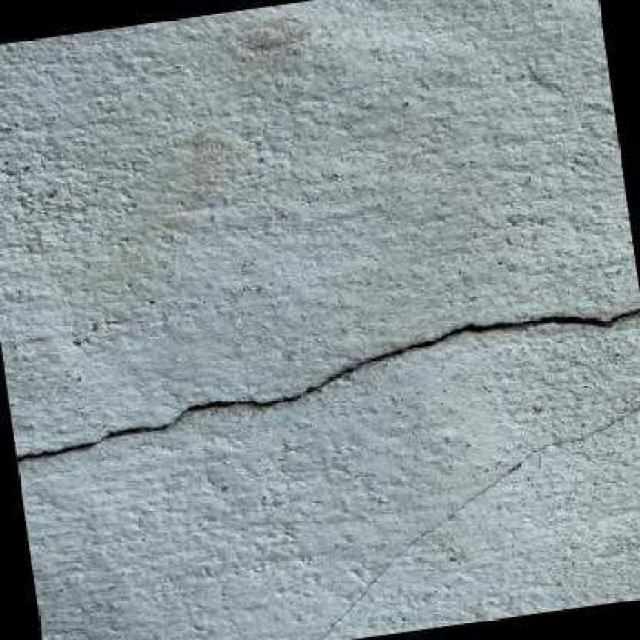D00: (16, 307, 640, 459)
